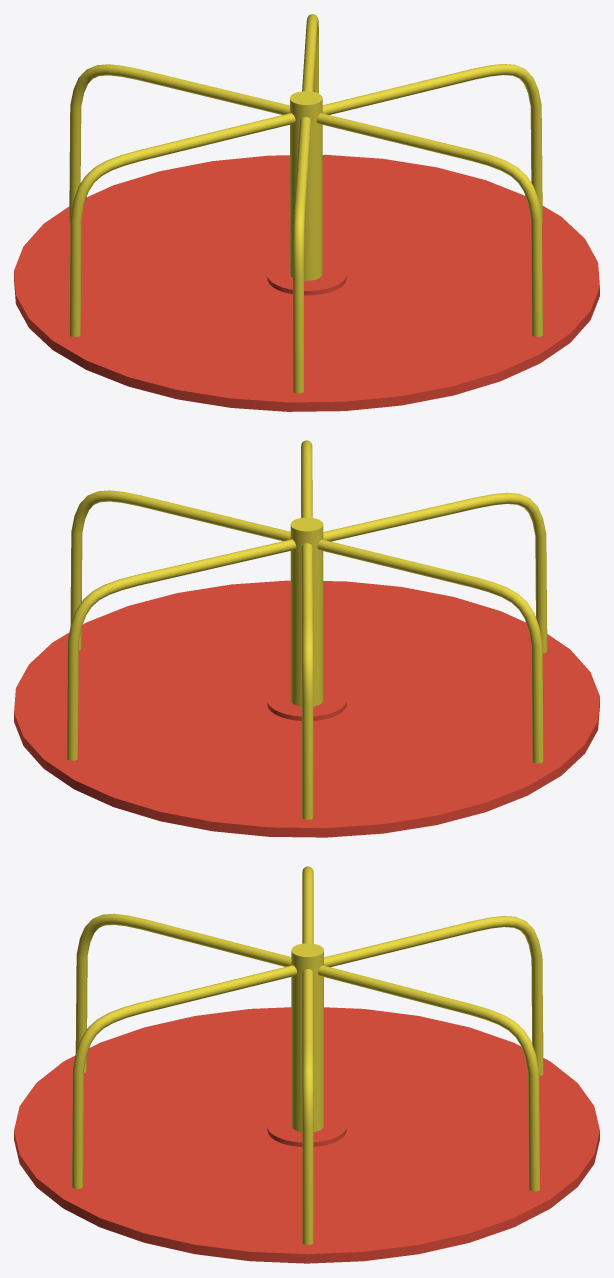
File: MerryGoRound.fbx
3 renders of one model, top to bottom at view 1: azimuth 30°, elevation 25°; view 2: azimuth 150°, elevation 25°; view 3: azimuth 270°, elevation 25°, orthographic.
Visible parts, largest first — view 1: Base, FramePt2, FramePt1, Support, FramePt3; view 2: Base, FramePt3, FramePt1, Support, FramePt2; view 3: Base, FramePt2, FramePt3, Support, FramePt1.
Part boxes in pixels (x1,y1,x2,y2): Base: (14, 154, 599, 411); FramePt2: (69, 64, 542, 336); FramePt1: (69, 64, 542, 336); Support: (290, 91, 322, 280); FramePt3: (293, 14, 318, 393); Base: (14, 580, 599, 837); FramePt3: (66, 492, 547, 760); FramePt1: (70, 490, 543, 763); Support: (290, 517, 323, 706); FramePt2: (301, 440, 313, 819); Base: (14, 1007, 599, 1263); FramePt2: (72, 916, 543, 1188); FramePt3: (75, 913, 539, 1191); Support: (291, 943, 323, 1131); FramePt1: (302, 866, 313, 1244).
Bounding box in the file's own units: 510 × 225 × 510.
